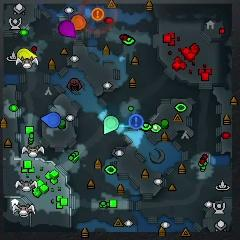Other: (129, 114, 144, 130)
p1: (41, 112, 61, 127)
p2: (103, 116, 119, 134)
p3: (58, 19, 76, 38)
p4: (16, 49, 37, 59)
p5: (72, 15, 87, 31)
